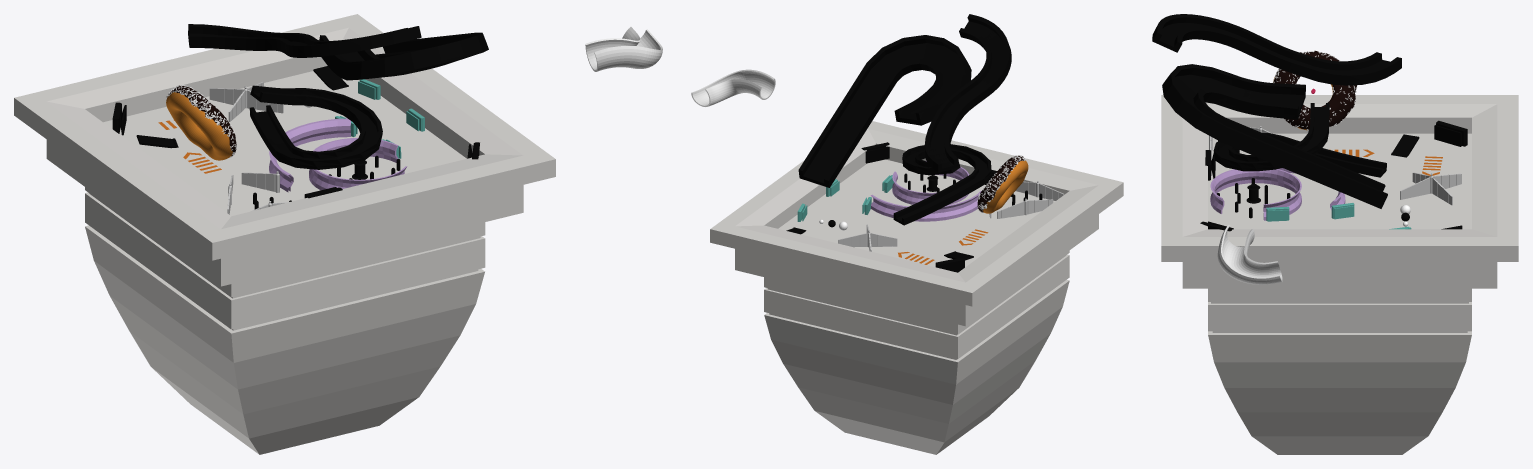
File: T5Arena520.fbx
3 renders of one model, left to right at view 1: azimuth 30°, elevation 25°; view 2: azimuth 150°, elevation 25°; view 3: azimuth 270°, elevation 25°, orthographic. The views are drawn at different scales.
Parts seen in each view (by area): view 1: Arena, ORanp, LUpperRamp, SRanp, STube, Torus, Tube_1, Tube, RevolvingDoor, Cube_1; view 2: Arena, LUpperRamp, SRanp, ORanp, STube, Tube_1, Torus, Tube, RevolvingDoor, Cube_1, SpinDoor_4, SpinDoor (+1 smaller); view 3: Arena, LUpperRamp, SRanp, ORanp, Tube, STube, Cube_1, RevolvingDoor, BounceBoard_1, JumpBoard_1.
Boxes of the visible parts, x1,y1,x2,y2 form: Arena: (14, 14, 555, 454); ORanp: (249, 85, 382, 169); LUpperRamp: (319, 32, 488, 80); SRanp: (188, 24, 421, 57); STube: (585, 27, 662, 71); Torus: (166, 92, 232, 160); Tube_1: (269, 118, 350, 192); Tube: (309, 137, 406, 190); RevolvingDoor: (209, 82, 283, 121); Cube_1: (167, 85, 236, 155); Arena: (710, 121, 1123, 454); LUpperRamp: (798, 35, 971, 187); SRanp: (924, 14, 1011, 172); ORanp: (893, 144, 991, 225); STube: (691, 69, 775, 106); Tube_1: (870, 190, 981, 221); Torus: (983, 160, 1028, 213); Tube: (892, 161, 969, 204); RevolvingDoor: (838, 224, 897, 251); Cube_1: (977, 155, 1024, 212); SpinDoor_4: (997, 198, 1053, 218); SpinDoor: (1016, 181, 1064, 200); Arena: (1161, 95, 1518, 454); LUpperRamp: (1162, 64, 1387, 208); SRanp: (1152, 14, 1401, 85); ORanp: (1213, 103, 1386, 177); Tube: (1210, 169, 1301, 220); STube: (1217, 225, 1282, 284); Cube_1: (1274, 51, 1356, 129); RevolvingDoor: (1400, 172, 1461, 205); BounceBoard_1: (1434, 120, 1467, 146); JumpBoard_1: (1391, 134, 1419, 157).
Size of the model in its own units: 296 by 257 by 208.
